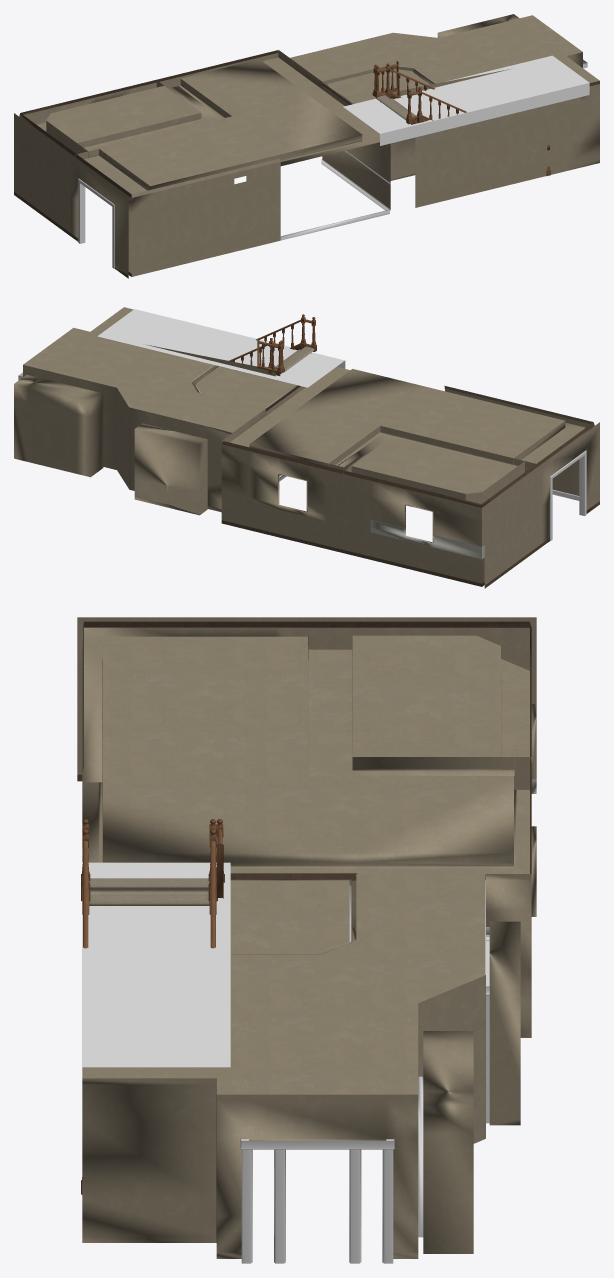
File: Wall.fbx
3 views of the same model, one above another, from view 1: azimuth 30°, elevation 25°; view 2: azimuth 150°, elevation 25°; view 3: azimuth 270°, elevation 25° (orthographic). The views are drawn at different scales.
Parts seen in each view (by area): view 1: Wall-Plaster-01, Second_Floor, Wall-Trim-Basic_0.1, Staircase_Second_Floor_0.1; view 2: Wall-Plaster-01, Second_Floor, Wall-Trim-Basic_0.1, Staircase_Second_Floor_0.1, Kitchen-White-Subway-Tile_0.1; view 3: Wall-Plaster-01, Second_Floor, Wall-Trim-Basic_0.1, Staircase_Second_Floor_0.1.
Part boxes in pixels (left/top/right/bottom): Wall-Plaster-01: left=14, top=14, right=599, bottom=276; Second_Floor: left=343, top=55, right=589, bottom=145; Wall-Trim-Basic_0.1: left=14, top=50, right=599, bottom=278; Staircase_Second_Floor_0.1: left=372, top=61, right=550, bottom=175; Wall-Plaster-01: left=14, top=307, right=599, bottom=584; Second_Floor: left=97, top=309, right=345, bottom=387; Wall-Trim-Basic_0.1: left=18, top=365, right=599, bottom=588; Staircase_Second_Floor_0.1: left=229, top=314, right=316, bottom=375; Kitchen-White-Subway-Tile_0.1: left=370, top=520, right=484, bottom=559; Wall-Plaster-01: left=77, top=617, right=536, bottom=1258; Second_Floor: left=82, top=862, right=230, bottom=1067; Wall-Trim-Basic_0.1: left=77, top=621, right=531, bottom=1263; Staircase_Second_Floor_0.1: left=81, top=819, right=224, bottom=1194.
Bounding box in the file's own units: 20.78 × 8.25 × 4.72.
